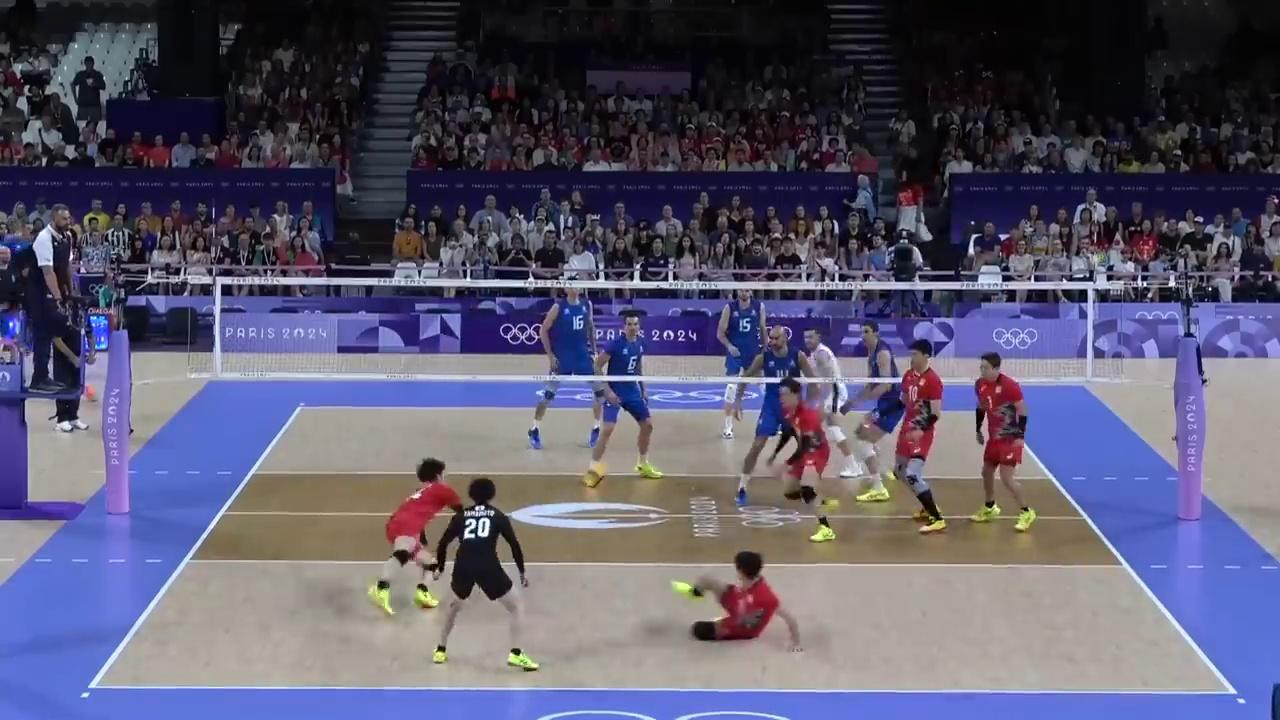ball: (583, 465, 605, 490)
